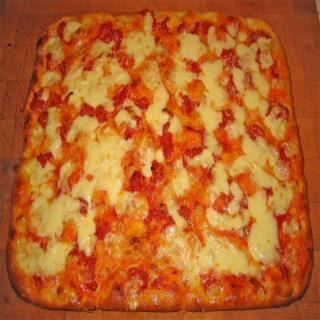Pizza: (7, 8, 316, 312)
